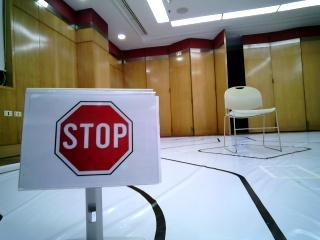stop: (34, 99, 157, 185)
